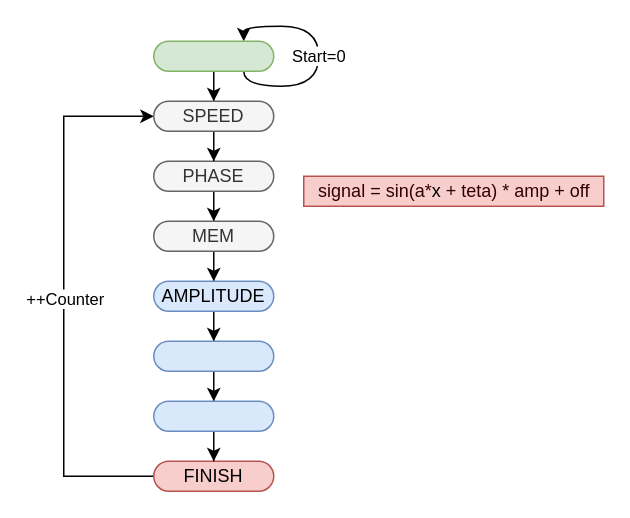
Some shapes in this 630 by 518 pixel diagram are drawn without their labels. The shapes that lost their labels are listed below. From the top down, each one's centre as x and y in pixels, then its label:
(213,55): READY
(213,355): OFFSET
(213,415): PRINT
